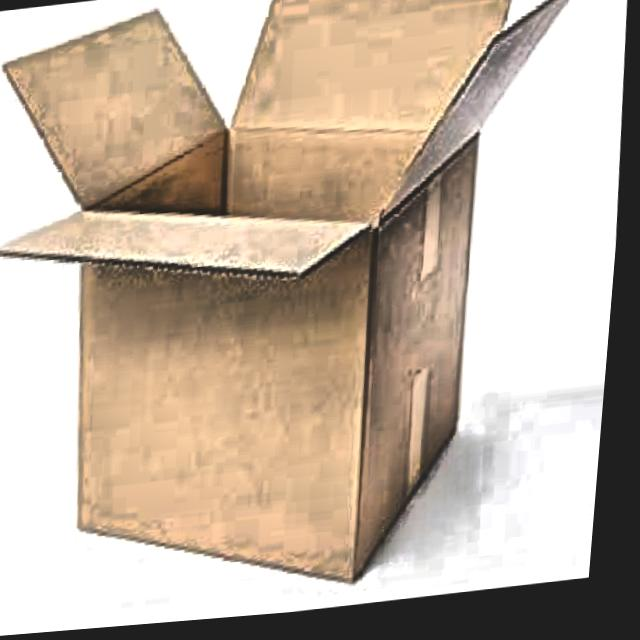Cardbox: (0, 0, 618, 630)
